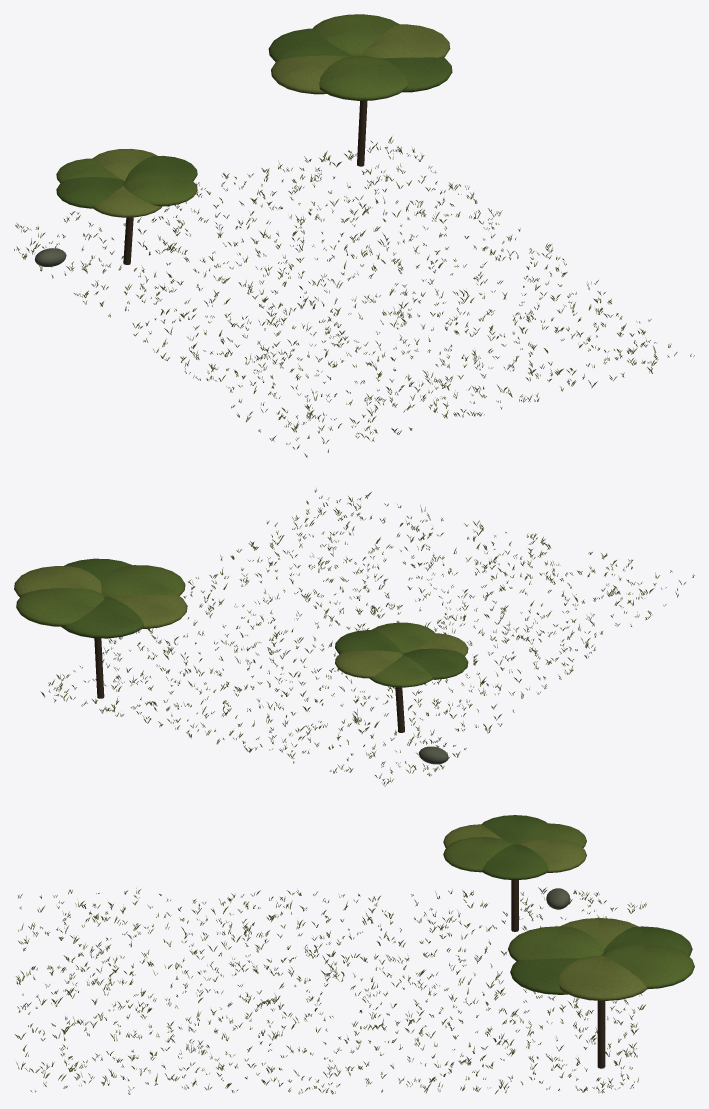
The model's file is savanna-v1.glb.
3 views of the same model, one above another, from view 1: azimuth 30°, elevation 25°; view 2: azimuth 150°, elevation 25°; view 3: azimuth 270°, elevation 25° (orthographic). The views are drawn at different scales.
Parts seen in each view (by area): view 1: Grass blades, Leaf crown.007, Leaf crown.008, Leaf crown.006, Leaf crown, Leaf crown.001, Leaf crown.002; view 2: Grass blades, Leaf crown.007, Leaf crown.008, Leaf crown.006, Leaf crown, Leaf crown.001, Leaf crown.002, Forked trunk.001; view 3: Grass blades, Leaf crown.007, Leaf crown.008, Leaf crown.006, Leaf crown, Leaf crown.001, Leaf crown.002, Forked trunk.001.
Boxes of the visible parts, x1,y1,x2,y2 form: Grass blades: [14, 136, 694, 457]; Leaf crown.007: [312, 14, 407, 100]; Leaf crown.008: [271, 24, 450, 94]; Leaf crown.006: [268, 28, 452, 92]; Leaf crown: [56, 155, 197, 208]; Leaf crown.001: [56, 158, 197, 206]; Leaf crown.002: [93, 148, 162, 217]; Grass blades: [40, 488, 694, 786]; Leaf crown.007: [16, 565, 185, 626]; Leaf crown.008: [14, 566, 187, 628]; Leaf crown.006: [61, 558, 144, 638]; Leaf crown: [335, 630, 468, 679]; Leaf crown.001: [369, 622, 435, 687]; Leaf crown.002: [335, 633, 468, 678]; Forked trunk.001: [94, 638, 104, 698]; Grass blades: [14, 887, 646, 1094]; Leaf crown.007: [508, 926, 694, 989]; Leaf crown.008: [558, 918, 647, 1000]; Leaf crown.006: [510, 926, 692, 994]; Leaf crown: [481, 815, 548, 880]; Leaf crown.001: [443, 823, 586, 872]; Leaf crown.002: [443, 824, 586, 872]; Forked trunk.001: [597, 1000, 605, 1068].
Size of what is drawn, in the model's own units: 23.8 by 6.27 by 31.58.
6 materials, 6 textured.
